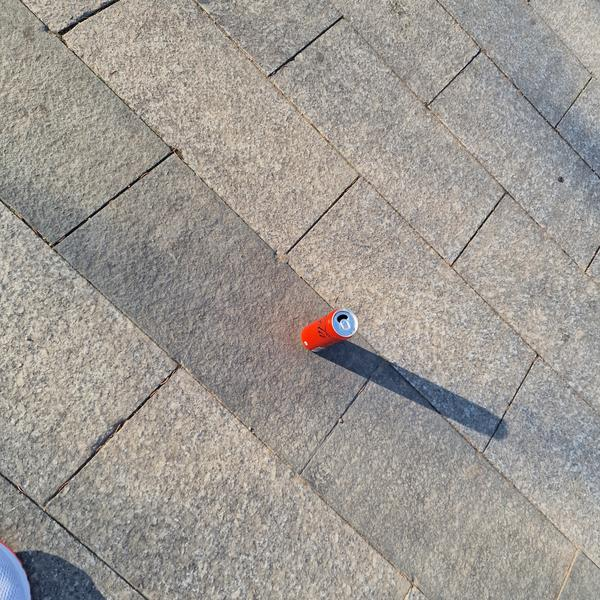can: (295, 303, 364, 357)
